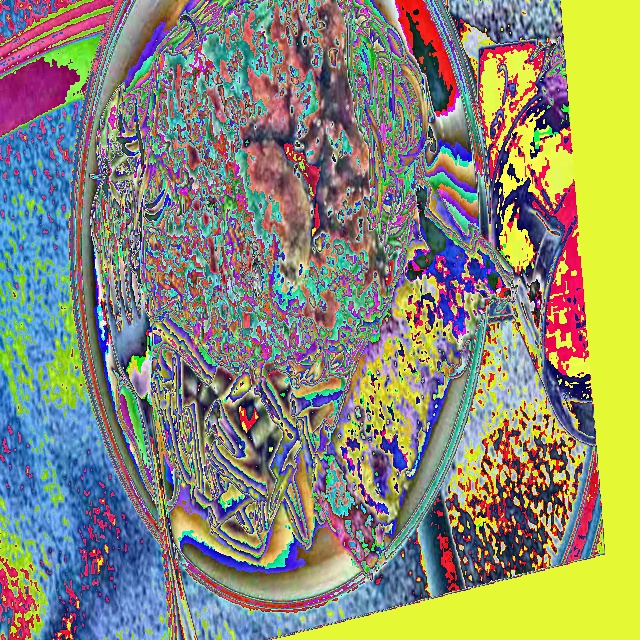background: (102, 0, 515, 582)
